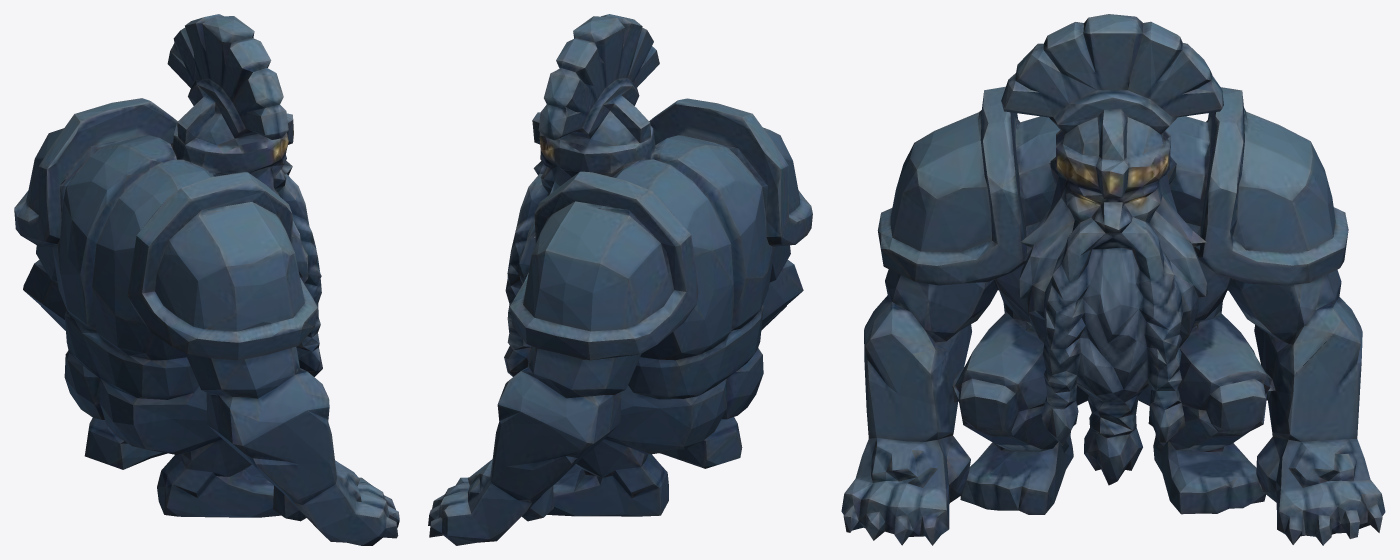
Rendered from foe_twins2.glb.
The picture shows the model from 3 angles, left to right: view 1: azimuth 30°, elevation 25°; view 2: azimuth 150°, elevation 25°; view 3: azimuth 270°, elevation 25°; orthographic projection. The views are drawn at different scales.
Parts seen in each view (by area): view 1: tripo_node_85c536b1-8f69-497e-880b-fc6f1f6d158a.001; view 2: tripo_node_85c536b1-8f69-497e-880b-fc6f1f6d158a.001; view 3: tripo_node_85c536b1-8f69-497e-880b-fc6f1f6d158a.001.
Part boxes in pixels (box(x1,y1,x2,y2)): tripo_node_85c536b1-8f69-497e-880b-fc6f1f6d158a.001: box(14, 14, 399, 545); tripo_node_85c536b1-8f69-497e-880b-fc6f1f6d158a.001: box(428, 14, 812, 545); tripo_node_85c536b1-8f69-497e-880b-fc6f1f6d158a.001: box(841, 14, 1385, 545).
Bounding box in the file's own units: 0.499 × 0.9987 × 1.
1 material, 1 textured.
